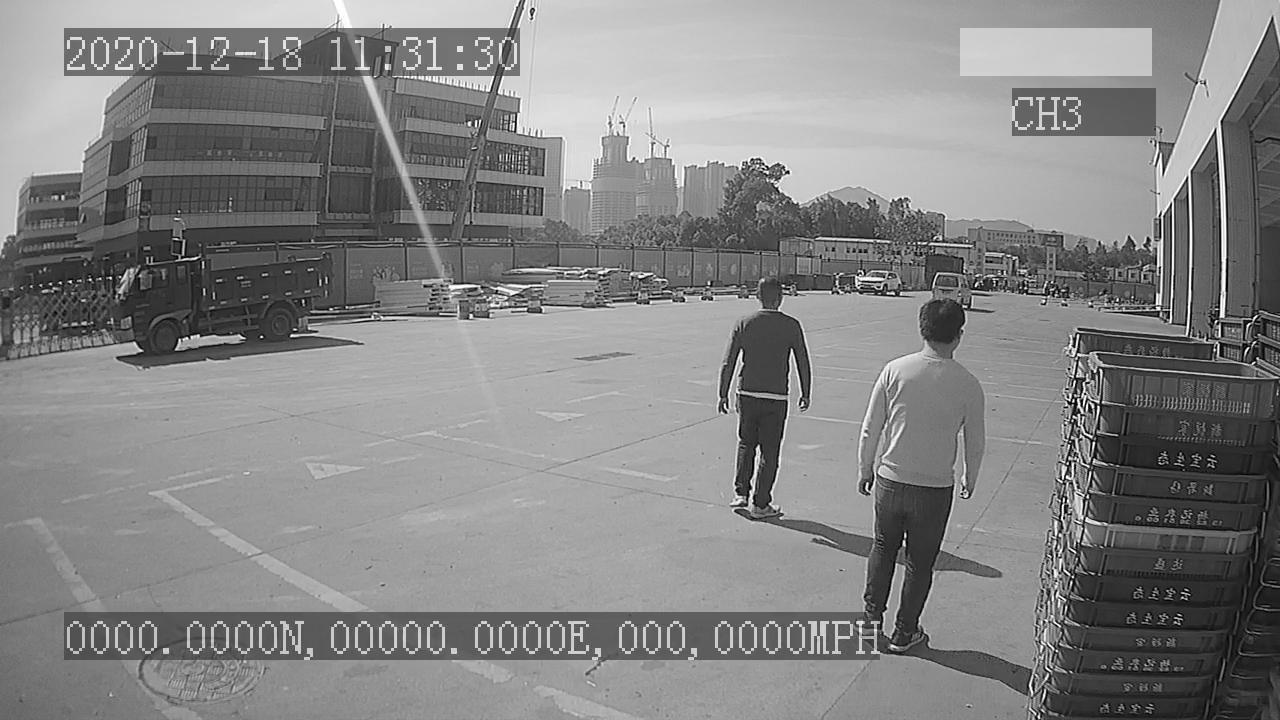person: (718, 268, 811, 519)
